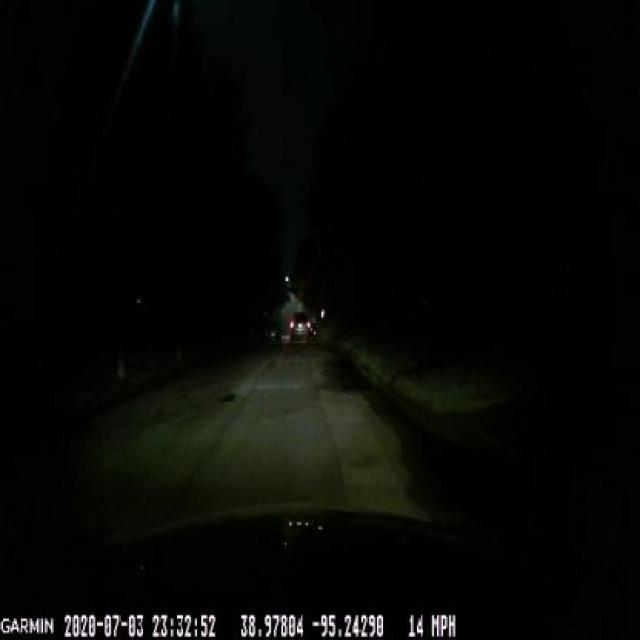Pothole: (217, 386, 241, 412)
